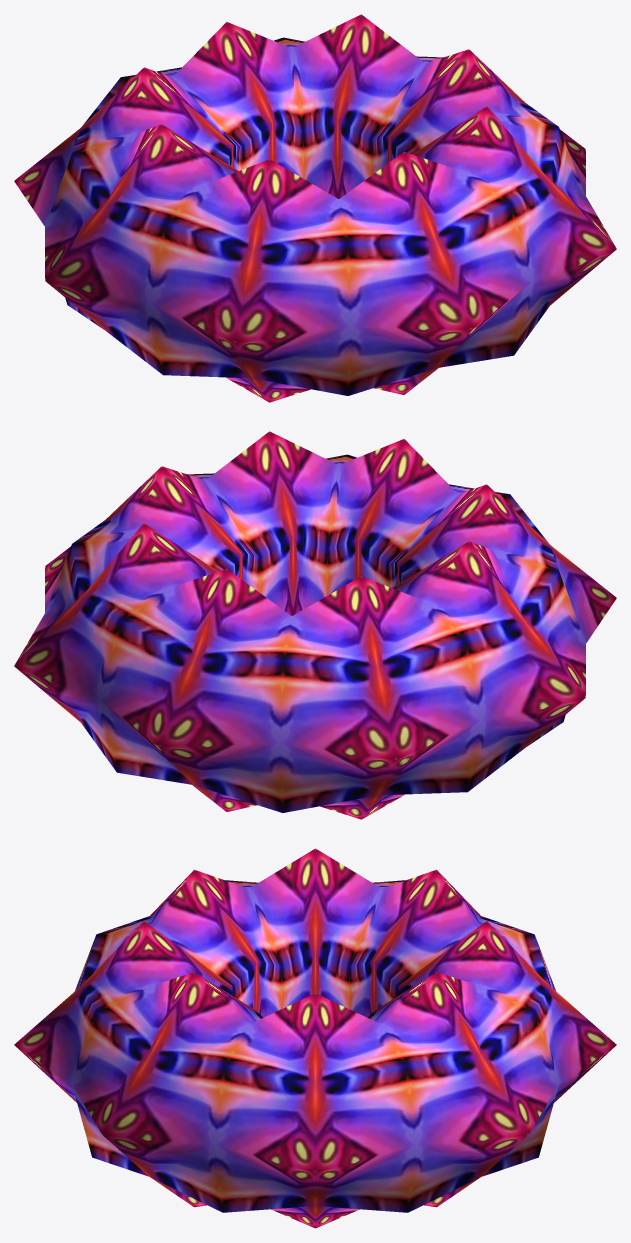
File: ufo-06.fbx
The picture shows the model from 3 angles, top to bottom: view 1: azimuth 30°, elevation 25°; view 2: azimuth 150°, elevation 25°; view 3: azimuth 270°, elevation 25°; orthographic projection. The views are drawn at different scales.
Visible parts, largest first — view 1: ufo-06; view 2: ufo-06; view 3: ufo-06.
Boxes of the visible parts, x1=… form: ufo-06: x1=14, y1=14, x2=616, y2=402; ufo-06: x1=14, y1=431, x2=616, y2=819; ufo-06: x1=14, y1=848, x2=616, y2=1228.
Bounding box in the file's own units: 71.32 × 30.69 × 71.32.
